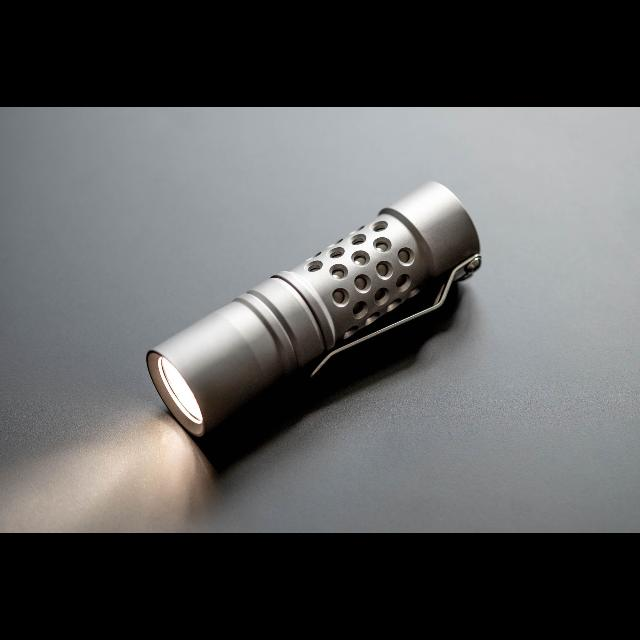Flashlight: (138, 173, 488, 444)
